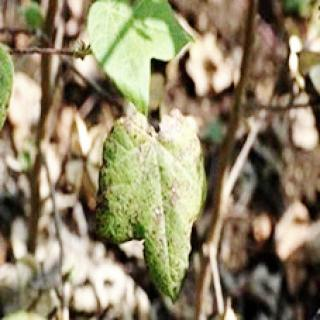leaf spot: (100, 108, 208, 302)
